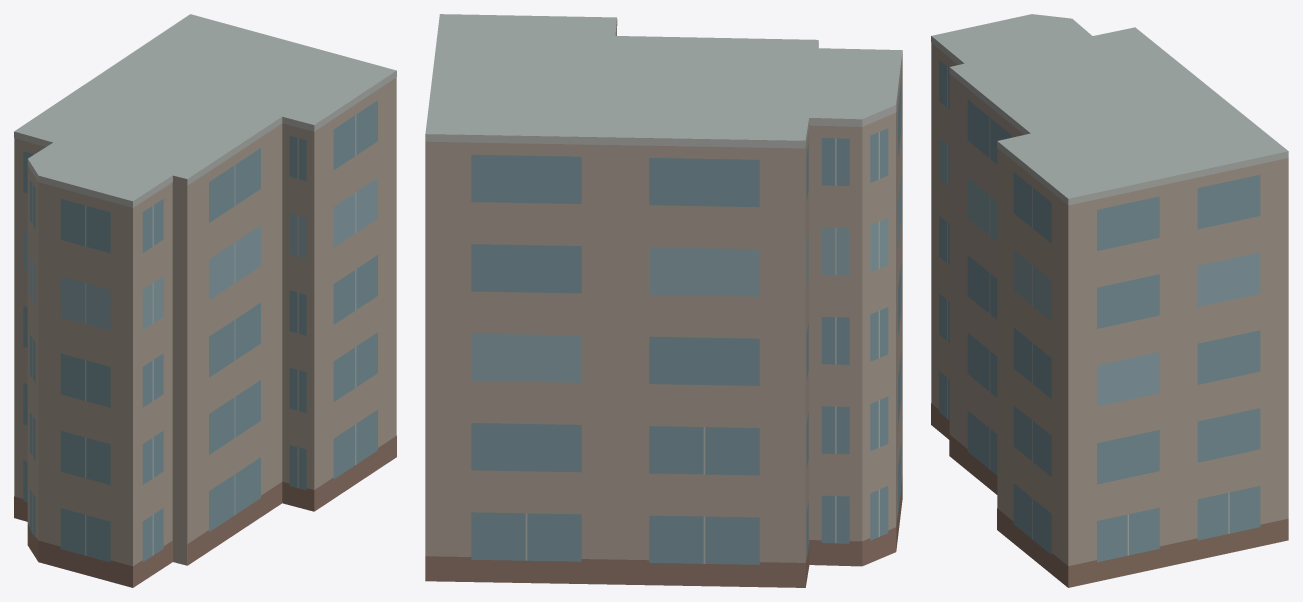
The model's file is survey-upis-33013160.glb.
3 renders of one model, left to right at view 1: azimuth 30°, elevation 25°; view 2: azimuth 150°, elevation 25°; view 3: azimuth 270°, elevation 25°, orthographic. The views are drawn at different scales.
Visible parts, largest first — view 1: survey-upis-33013160.tmp; view 2: survey-upis-33013160.tmp; view 3: survey-upis-33013160.tmp.
Part boxes in pixels (x1,y1,x2,y2): survey-upis-33013160.tmp: [14, 14, 396, 587]; survey-upis-33013160.tmp: [425, 14, 902, 587]; survey-upis-33013160.tmp: [931, 14, 1288, 587].
Bounding box in the file's own units: 14.58 × 14.3 × 11.92.
